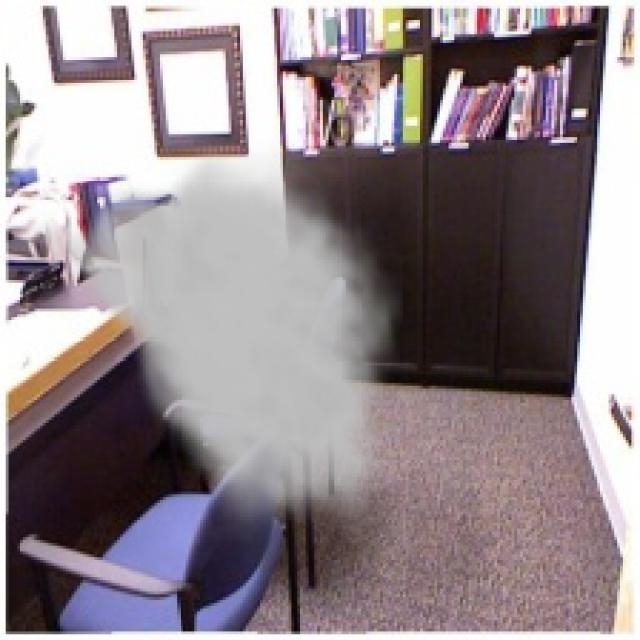smoke: (14, 140, 403, 546)
